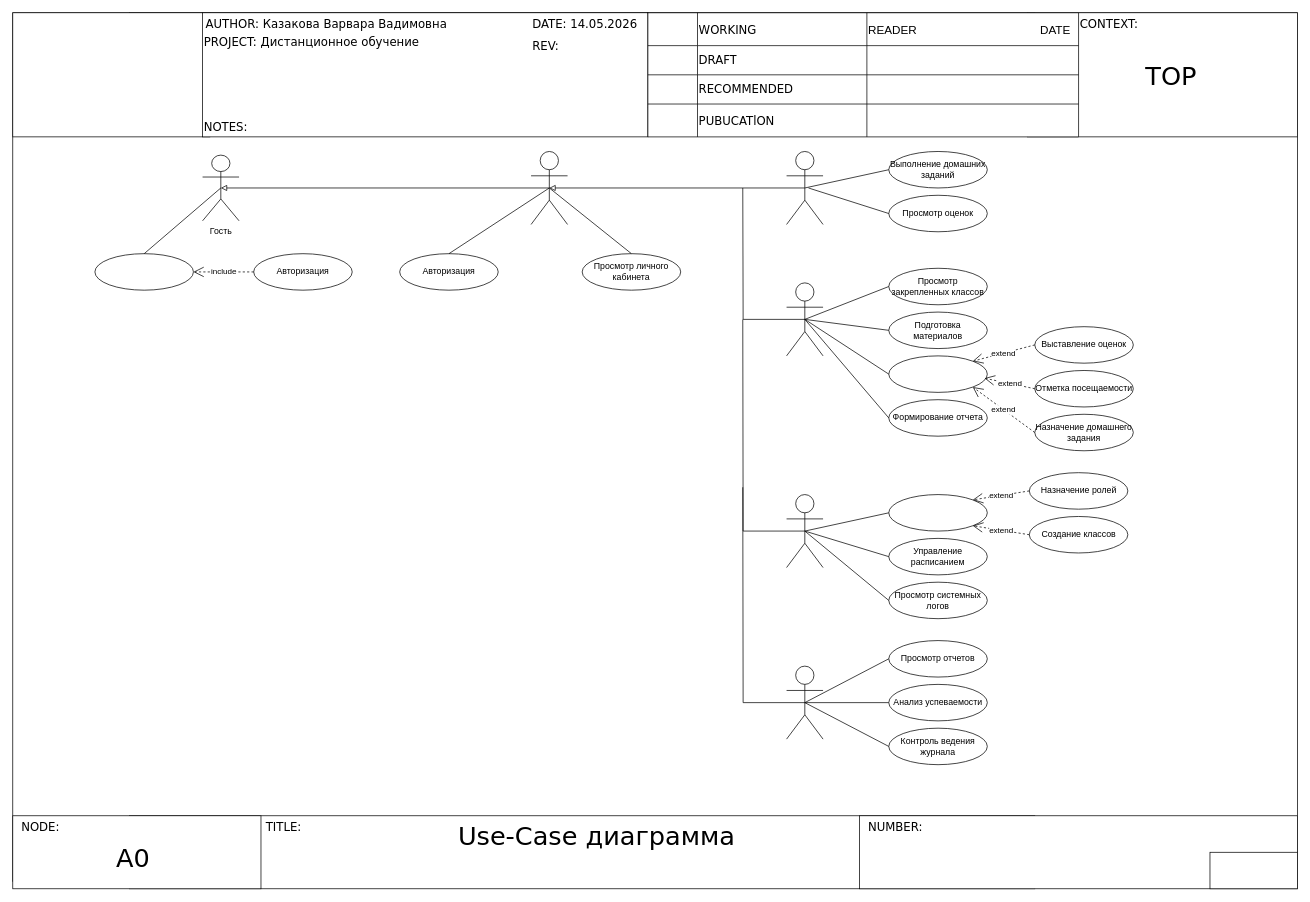
The diagram is 1310 pixels wide and 902 high, and some of its shapes have lost their labels. Here are the shapes that lost their labels. From the top down, the centre of each, then its label:
At point (111, 74): "USET AT:".
At point (549, 187): "Зарегистрированный пользователь".
At point (804, 187): "Ученик".
At point (143, 271): "Регистрация".
At point (804, 319): "Учитель".
At point (937, 373): "Проведение урока".
At point (804, 531): "Администратор".
At point (937, 512): "Управление учетными записями".
At point (804, 702): "Администрация школы".
